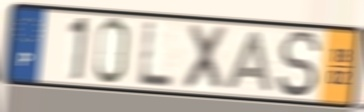0: (93, 15, 131, 88)
1: (67, 16, 90, 82)
A: (223, 29, 274, 94)
L: (136, 20, 176, 90)
S: (275, 29, 324, 100)
X: (180, 22, 231, 95)
